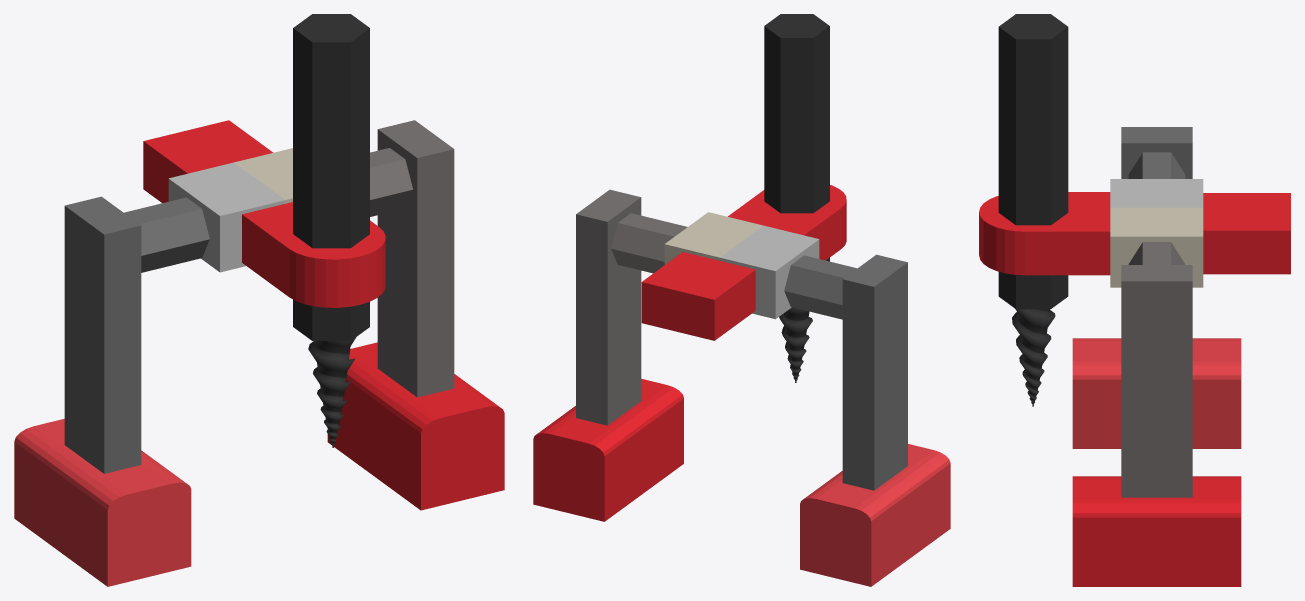
Rendered from BurEbanui.fbx.
3 renders of one model, left to right at view 1: azimuth 30°, elevation 25°; view 2: azimuth 150°, elevation 25°; view 3: azimuth 270°, elevation 25°, orthographic. The views are drawn at different scales.
Visible parts, largest first — view 1: ustanovka, Bur; view 2: ustanovka, Bur; view 3: ustanovka, Bur.
Part boxes in pixels (box(x1,y1,x2,y2)): ustanovka: box(14, 120, 504, 586); Bur: box(293, 14, 369, 447); ustanovka: box(533, 185, 950, 586); Bur: box(764, 14, 829, 382); ustanovka: box(979, 127, 1290, 586); Bur: box(998, 14, 1068, 406).
Bounding box in the file's own units: 701 × 887 × 528.
